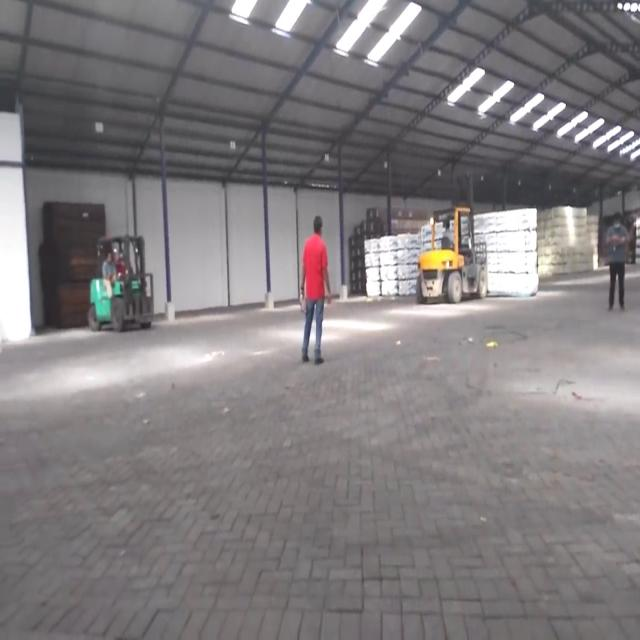Chariot elevateur: (84, 230, 160, 342), (413, 202, 492, 309)
